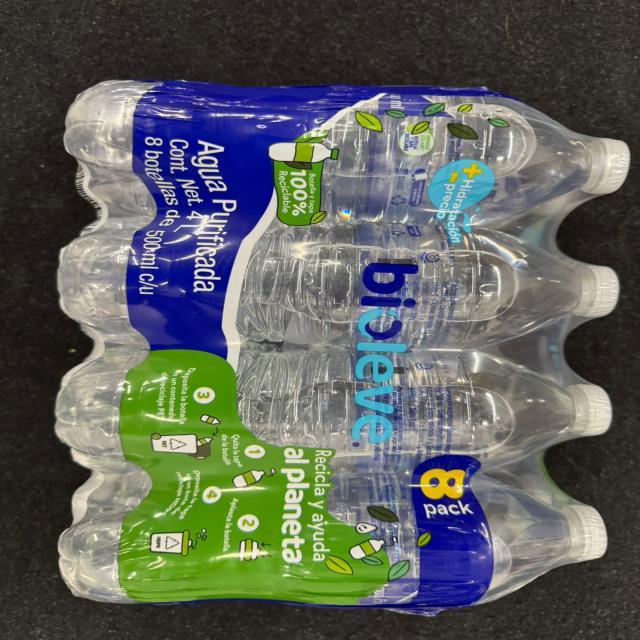AGUA PURIFICADA BIOLEVE 0.5L 8 PACK: (57, 67, 623, 607)
